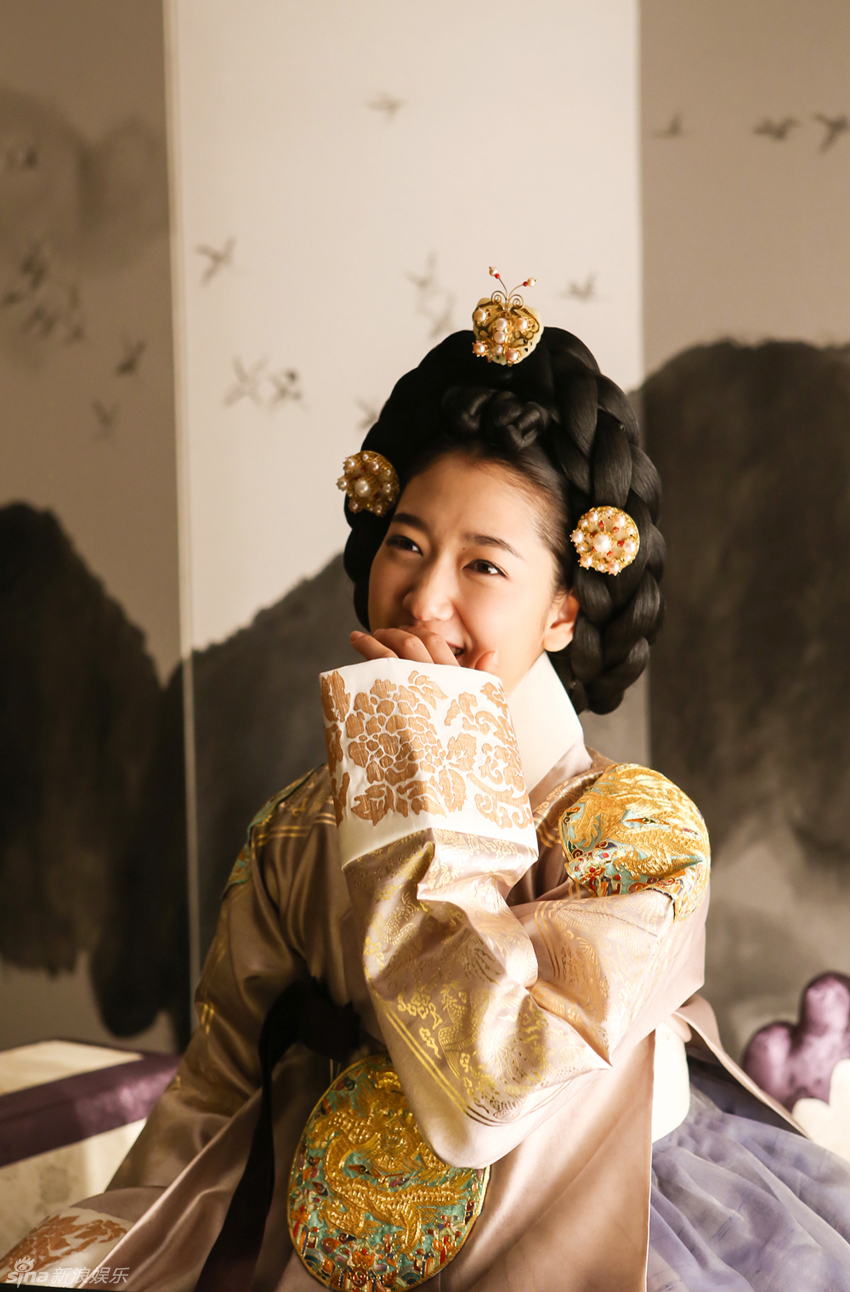face: (371, 438, 548, 732)
